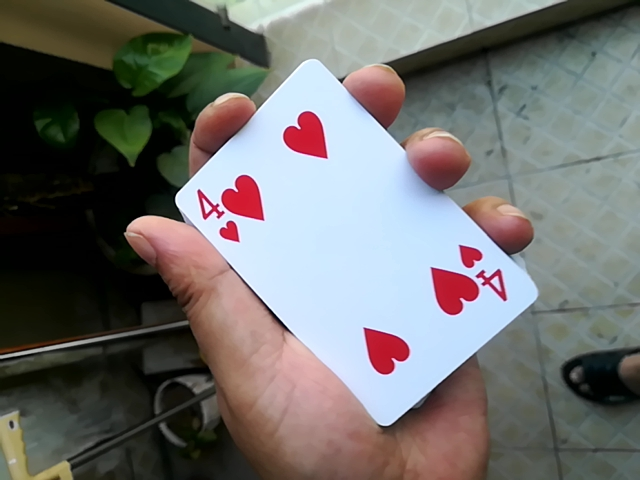hx 4: (163, 64, 542, 441)
